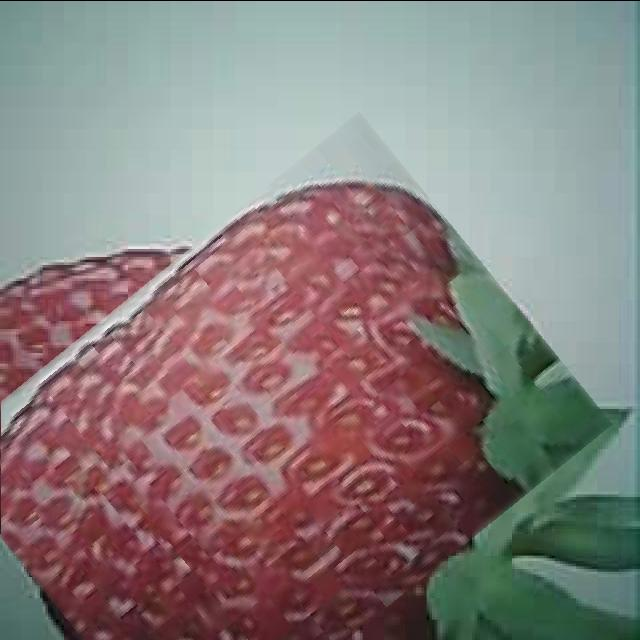strawberry: (0, 173, 580, 640)
